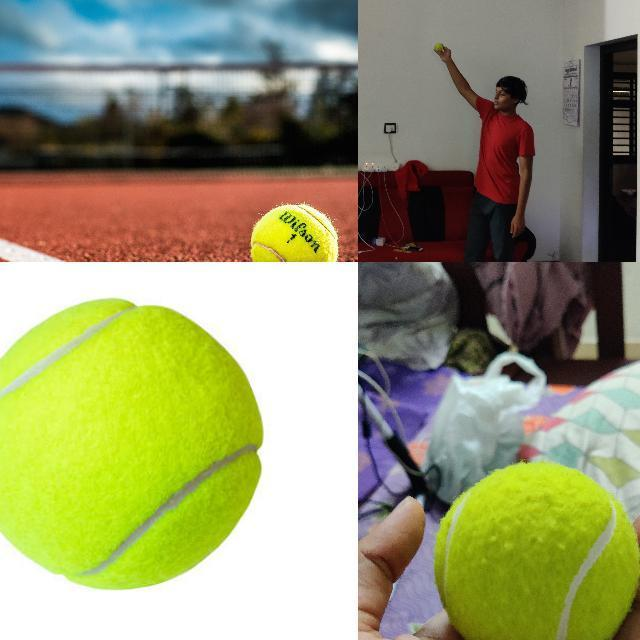tennis-ball: (0, 297, 266, 593), (431, 460, 639, 639), (249, 204, 339, 261), (433, 42, 442, 52)
